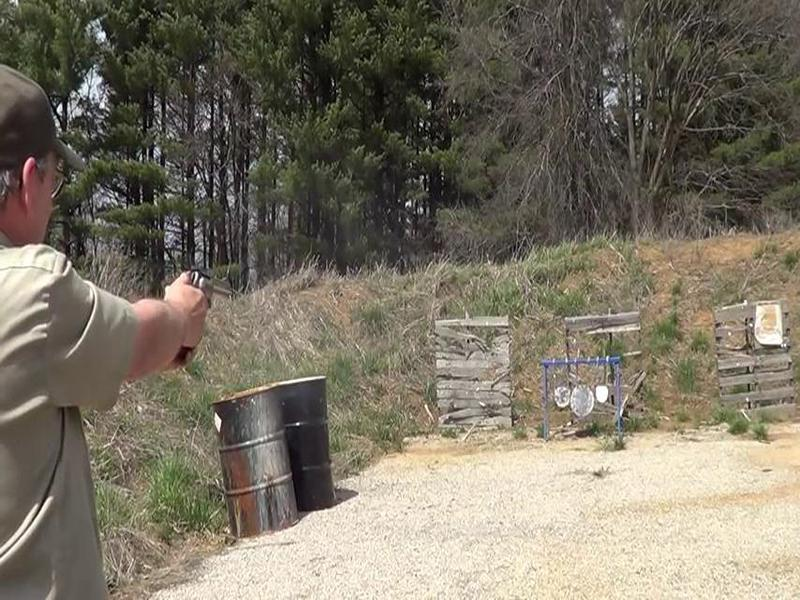Revolver: (165, 253, 242, 332)
